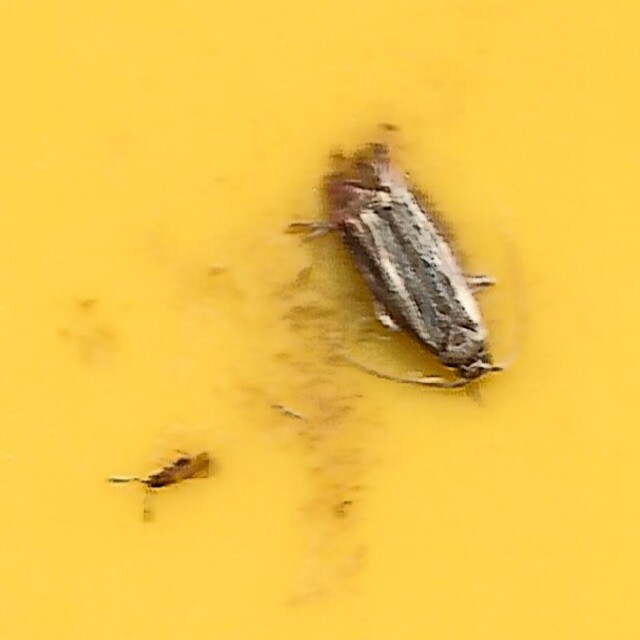Hymenoptera: (105, 442, 225, 525)
Lepidoptera: (284, 115, 535, 408)
